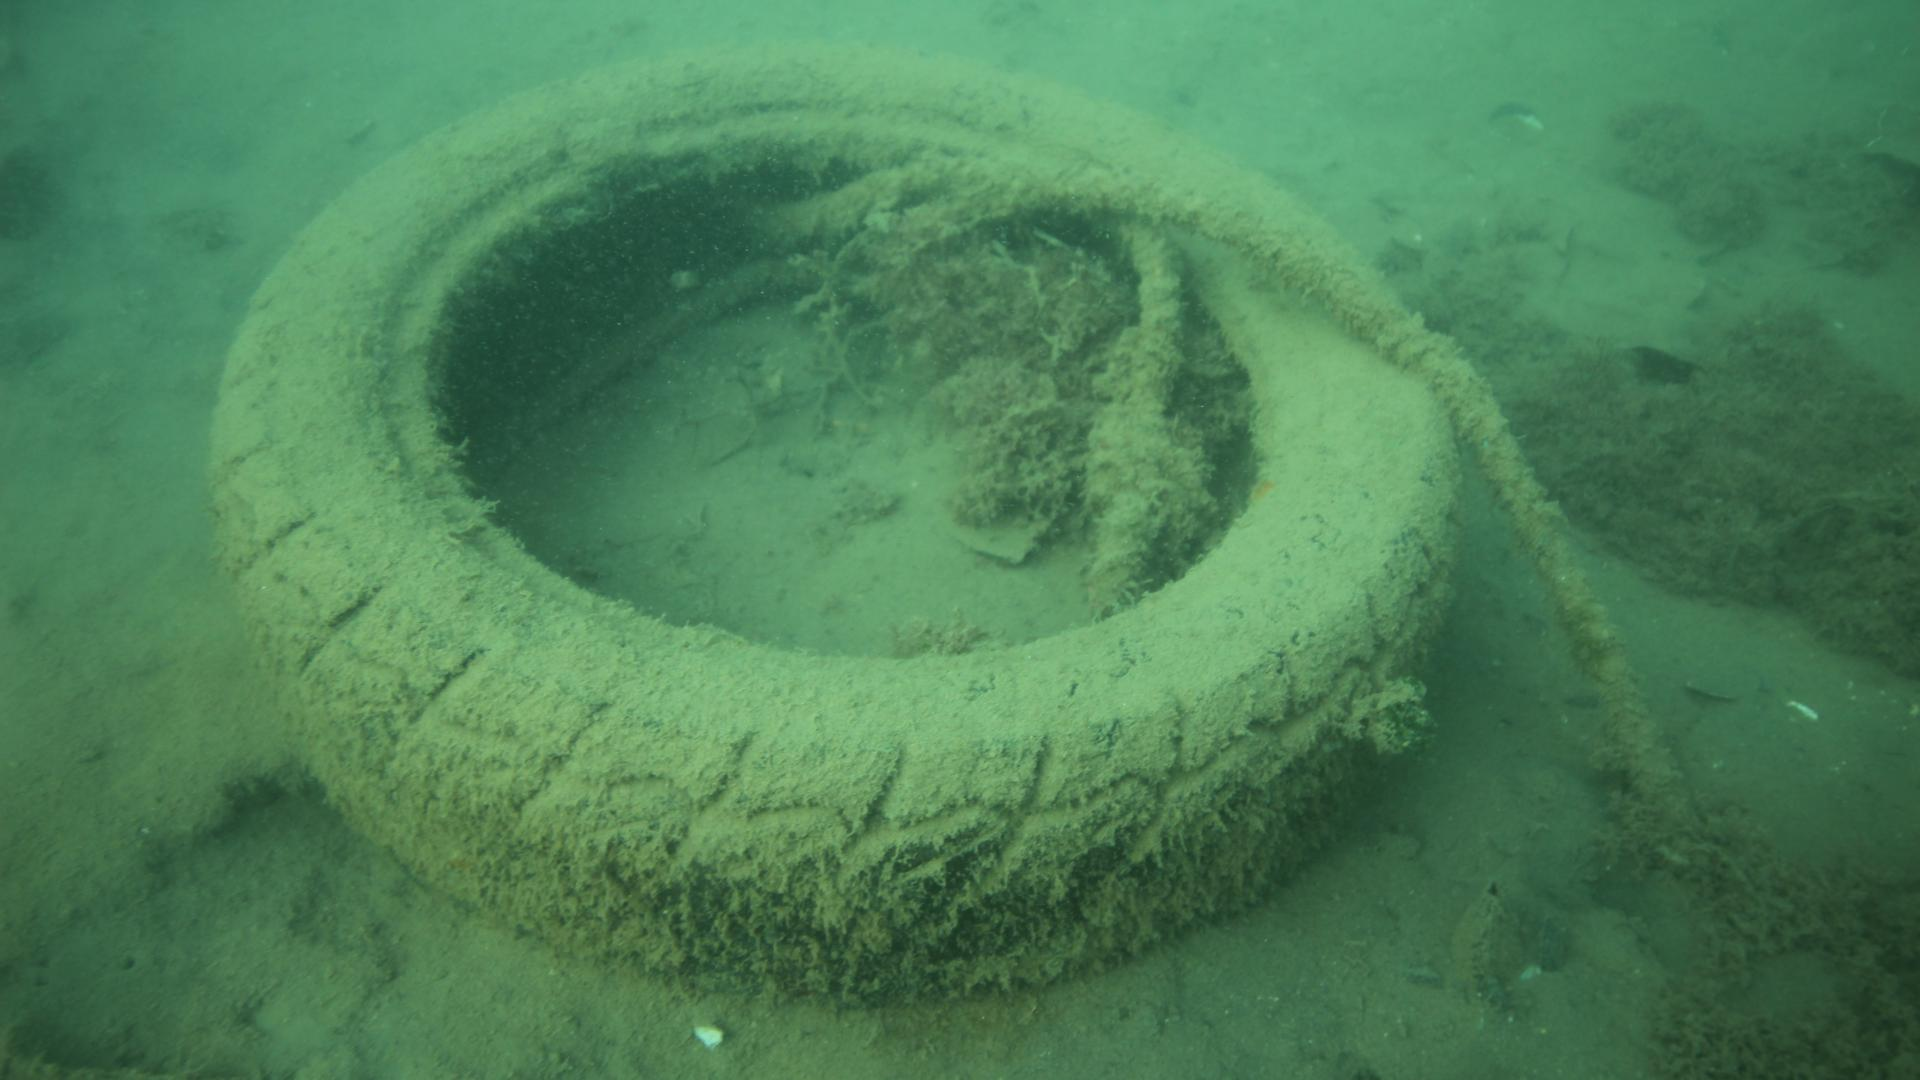bundle of ropes: (746, 146, 1716, 855)
tire: (203, 34, 1466, 1004)
